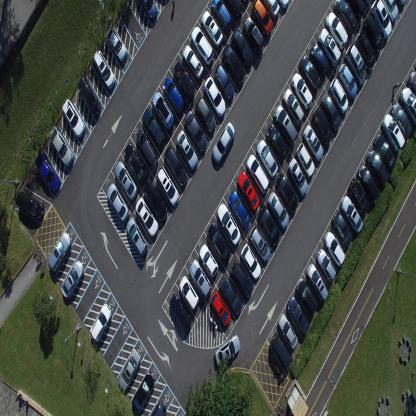car: (48, 123, 74, 168), (142, 178, 166, 223), (182, 111, 207, 154), (206, 221, 231, 264), (273, 104, 298, 147), (123, 144, 147, 188), (216, 203, 240, 247), (131, 371, 155, 415), (35, 154, 61, 194), (221, 41, 245, 84), (14, 190, 44, 224), (212, 120, 235, 164), (163, 146, 187, 188), (230, 24, 254, 66), (47, 231, 71, 273), (62, 97, 86, 139), (218, 276, 243, 316), (117, 349, 140, 392), (189, 24, 213, 65), (155, 166, 179, 207), (114, 161, 138, 202), (366, 148, 390, 189), (175, 130, 198, 172), (141, 108, 164, 150), (89, 302, 112, 344), (246, 152, 269, 194), (134, 198, 158, 238), (60, 259, 84, 299), (269, 332, 293, 372), (381, 113, 405, 153), (78, 75, 100, 118), (345, 43, 367, 86), (237, 170, 260, 211), (258, 205, 281, 246), (188, 259, 211, 300), (93, 49, 116, 90), (286, 295, 309, 336), (256, 138, 278, 180), (354, 30, 376, 72), (306, 262, 328, 304), (202, 76, 225, 116), (106, 184, 129, 224), (340, 195, 363, 235), (151, 91, 173, 132), (172, 60, 194, 101), (228, 190, 250, 231), (276, 172, 298, 213), (267, 190, 290, 229), (357, 165, 380, 204), (214, 333, 240, 367), (135, 129, 157, 169), (126, 218, 148, 258), (212, 62, 235, 100), (193, 96, 216, 134), (230, 260, 253, 298), (169, 293, 192, 331), (318, 27, 341, 65), (200, 8, 222, 47), (242, 15, 264, 54), (266, 122, 288, 161), (290, 72, 312, 111), (302, 124, 324, 163), (296, 277, 318, 316), (374, 132, 396, 171), (248, 226, 271, 263), (283, 86, 304, 126), (312, 105, 333, 145), (370, 0, 392, 38), (324, 230, 346, 268), (390, 101, 412, 139), (325, 11, 348, 47), (288, 157, 308, 198), (161, 76, 182, 115), (240, 244, 262, 281), (105, 26, 127, 63), (362, 14, 384, 51), (250, 0, 273, 35), (181, 43, 203, 79), (334, 0, 357, 34), (210, 290, 231, 327), (320, 93, 341, 130), (278, 312, 298, 350), (332, 210, 352, 248), (316, 248, 337, 284), (348, 178, 369, 214), (300, 53, 320, 90), (338, 63, 358, 100), (295, 142, 315, 178), (400, 85, 416, 130), (198, 244, 219, 278), (329, 78, 348, 115), (178, 276, 198, 311), (309, 42, 329, 76), (211, 0, 232, 32), (345, 0, 367, 19), (380, 0, 398, 23), (138, 0, 158, 20), (225, 0, 244, 18), (262, 0, 280, 19), (150, 398, 167, 416), (406, 70, 416, 96), (278, 0, 289, 9), (396, 0, 407, 7)
